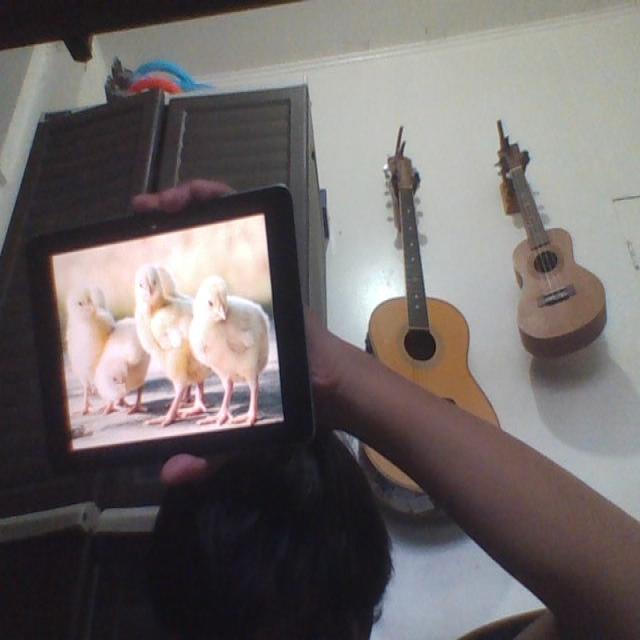Healthy: (188, 278, 263, 424), (130, 270, 202, 417), (64, 287, 107, 388)
Sick: (93, 319, 146, 421)
